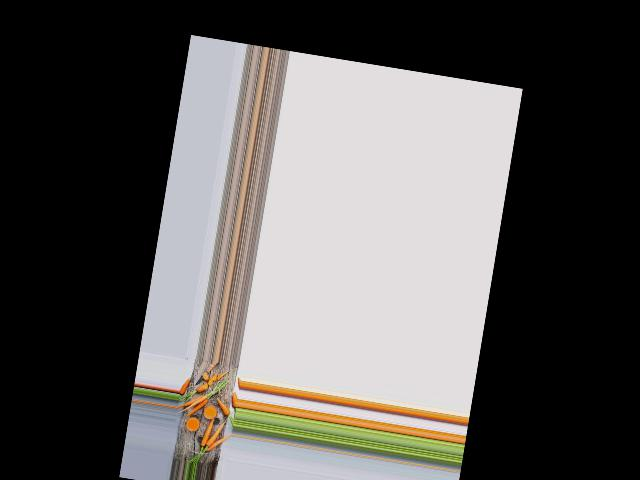carrot: (203, 427, 231, 459)
